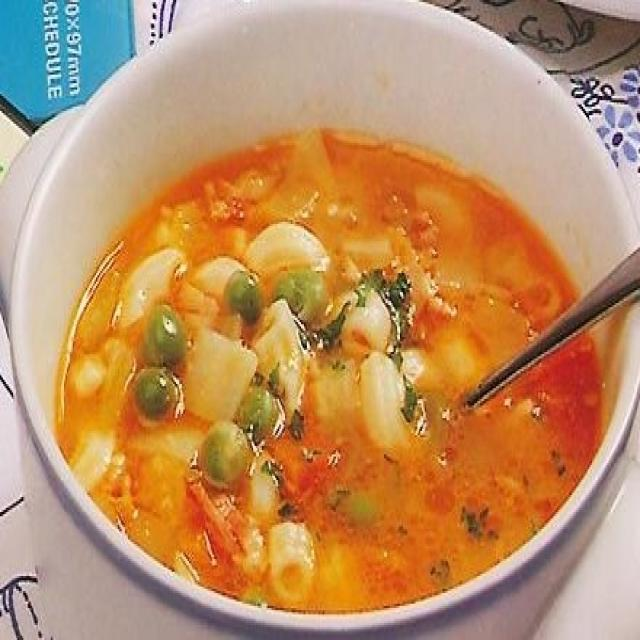汤锅炖物: (19, 25, 631, 620)
